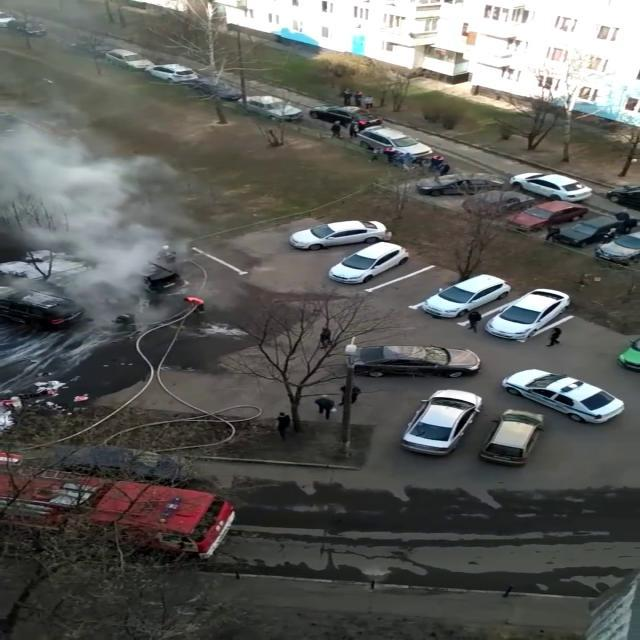Smoke: (2, 92, 194, 336)
